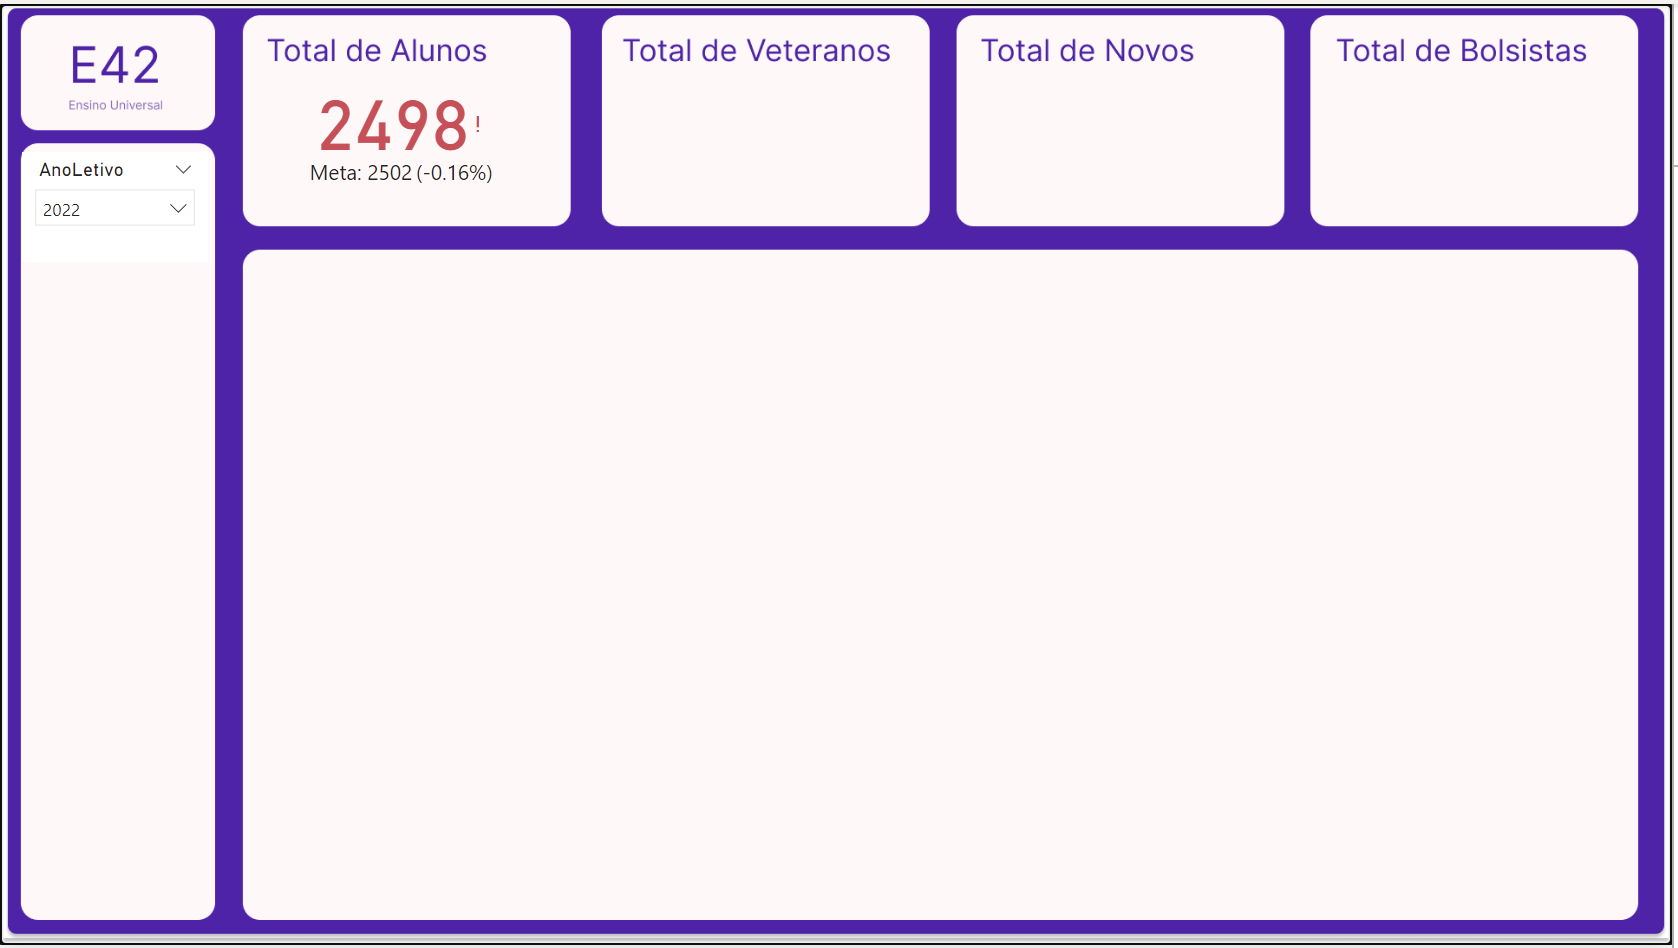

Layout of this report page (visuals, bound fields, positions):
{"tool":"powerbi","page":{"name":"Página 1","canvas":[1280,720],"ordinal":0},"visuals":[{"type":"slicer","fields":{"Values":["fMatricula.AnoLetivo"]},"box":[16.8,113.3,142.4,84.2],"z":0},{"type":"kpi","fields":{"Indicator":["_Medidas.TotalAlunos"],"TrendLine":["fMatricula.AnoLetivo"],"Goal":["_Medidas.PY_totalAlunos"]},"box":[200.6,50.5,212.8,114.8],"z":2}]}

Visuals, with their boxes in screenshot pixels (x1, y1, x2, y2), scaled from the page's 1280x720 canvas onto the 1678x948 screenshot:
slicer - fMatricula.AnoLetivo: l=22, t=149, r=209, b=260
kpi - _Medidas.TotalAlunos x fMatricula.AnoLetivo: l=263, t=66, r=542, b=218
